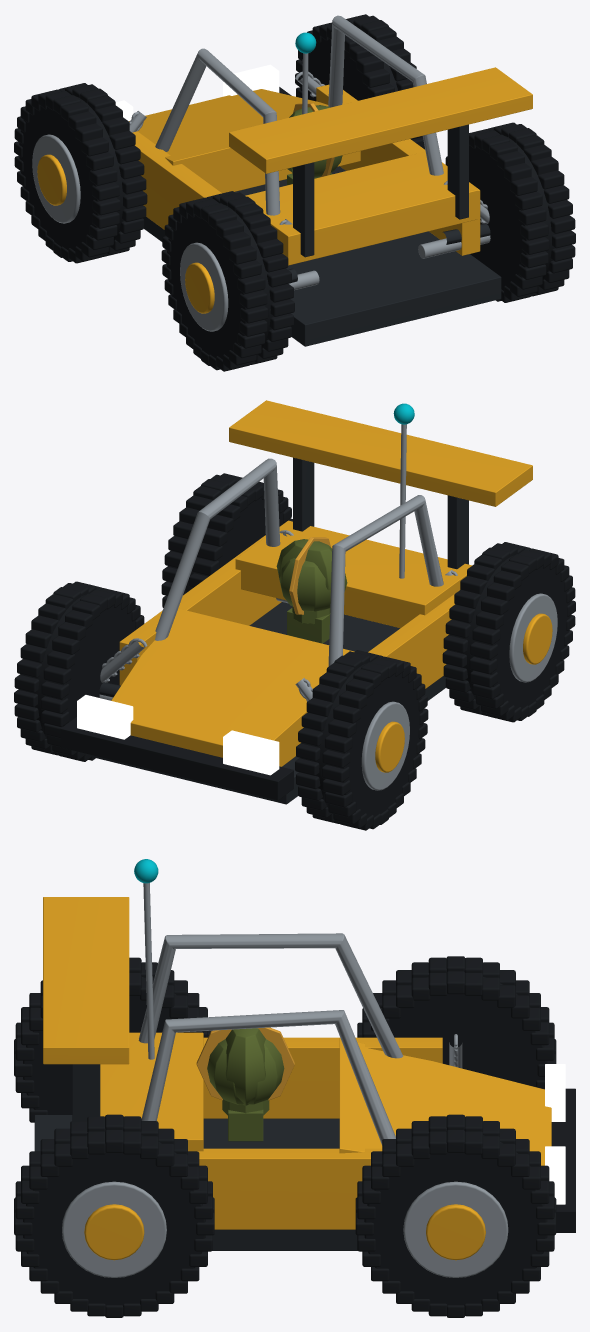
The model's file is buggy.glb.
3 views of the same model, one above another, from view 1: azimuth 30°, elevation 25°; view 2: azimuth 150°, elevation 25°; view 3: azimuth 270°, elevation 25° (orthographic). The views are drawn at different scales.
Visible parts, largest first — view 1: BuggyBody, Wheel_1_0.92, Wheel_1_-0.9, Wheel_-1_-0.9, Wheel_-1_0.92; view 2: BuggyBody, Wheel_1_-0.9, Wheel_1_0.92, Wheel_-1_0.92, Wheel_-1_-0.9; view 3: BuggyBody, Wheel_-1_0.92, Wheel_-1_-0.9, Wheel_1_0.92, Wheel_1_-0.9.
Boxes of the visible parts, x1=… form: BuggyBody: x1=115, y1=15, x2=532, y2=346; Wheel_1_0.92: x1=14, y1=83, x2=147, y2=263; Wheel_1_-0.9: x1=161, y1=191, x2=294, y2=371; Wheel_-1_-0.9: x1=445, y1=122, x2=575, y2=302; Wheel_-1_0.92: x1=295, y1=14, x2=425, y2=149; BuggyBody: x1=60, y1=400, x2=532, y2=804; Wheel_1_-0.9: x1=442, y1=542, x2=575, y2=722; Wheel_1_0.92: x1=295, y1=650, x2=428, y2=830; Wheel_-1_0.92: x1=14, y1=581, x2=144, y2=761; Wheel_-1_-0.9: x1=161, y1=473, x2=292, y2=607; BuggyBody: x1=34, y1=859, x2=575, y2=1250; Wheel_-1_0.92: x1=355, y1=1114, x2=556, y2=1317; Wheel_-1_-0.9: x1=14, y1=1114, x2=214, y2=1317; Wheel_1_0.92: x1=357, y1=956, x2=556, y2=1088; Wheel_1_-0.9: x1=14, y1=957, x2=212, y2=1122.
Size of the model in its own units: 2.44 by 1.99 by 3.
